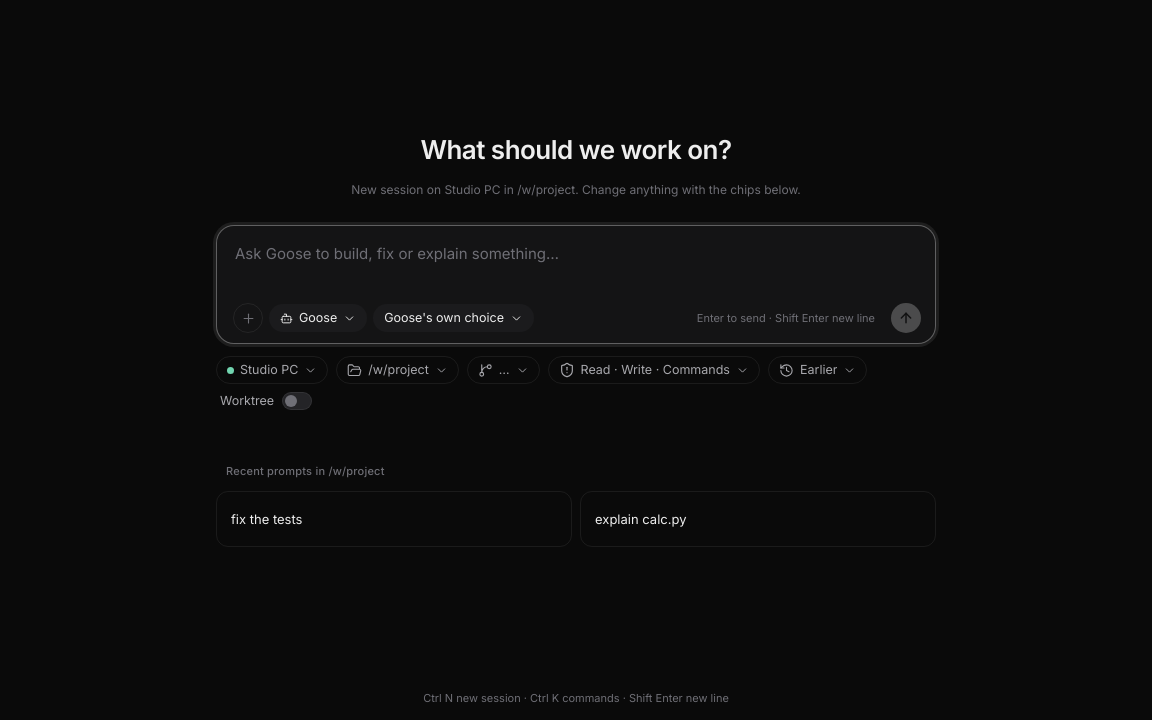
earlier sessions of an agent › is hidden on a host without the feature and asks nothing until opened
This screenshot has width=1152, height=720.
Click the button "Earlier" at point(818, 370), box [768,356,868,384]
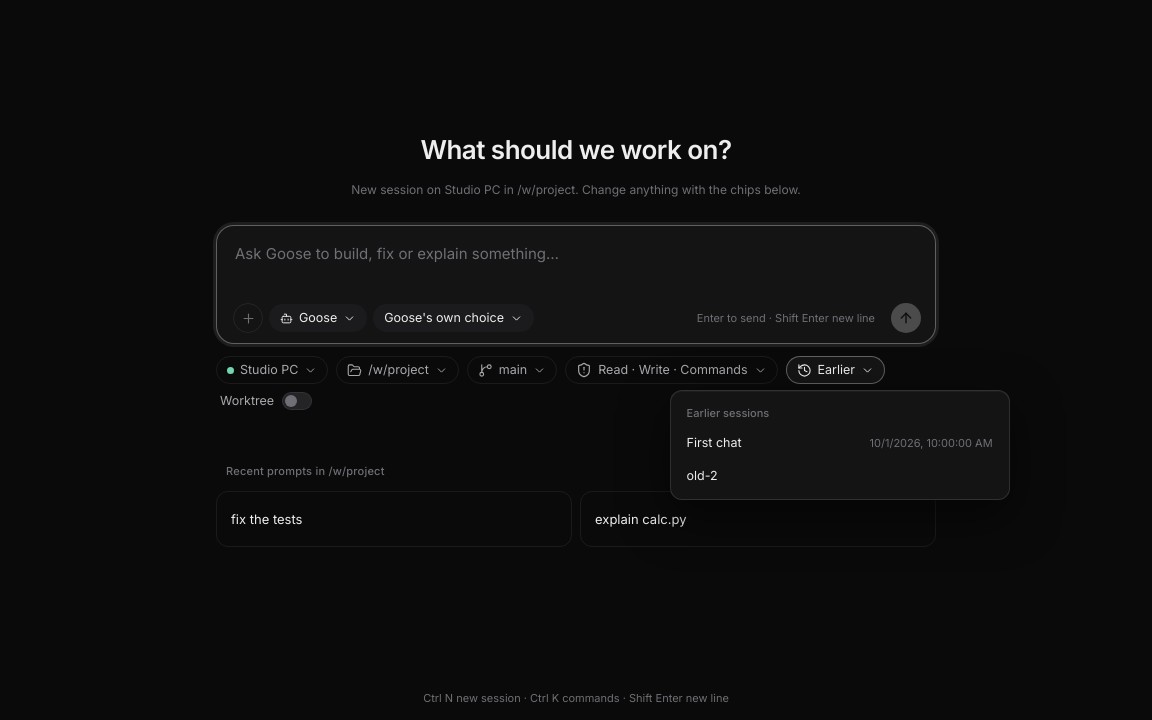
Now the text "First chat" is shown, box [687,435,742,450]
Now the text "old-2" is shown, box [687,468,718,483]
